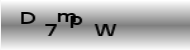7: (44, 22, 57, 37)
D: (19, 11, 36, 25)
W: (93, 23, 117, 36)
m: (55, 11, 76, 22)
p: (69, 15, 82, 28)
